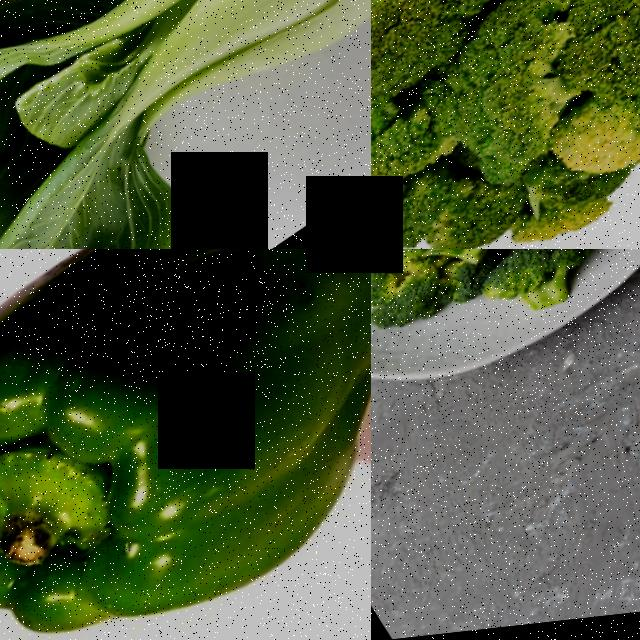bell pepper: (0, 249, 371, 640)
bok choy: (0, 0, 371, 249), (0, 0, 309, 119)
broccoli: (371, 0, 640, 249), (476, 249, 601, 345), (385, 249, 487, 288), (371, 249, 407, 317)
